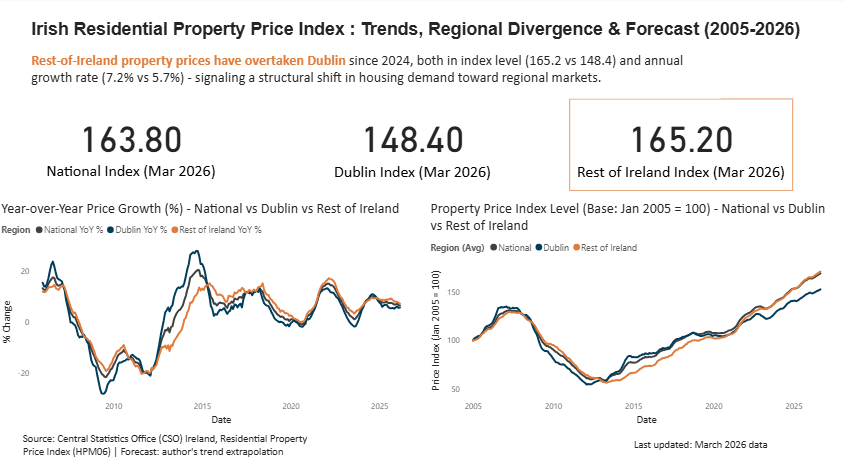

The page's visual inventory and layout, read from the dashboard file:
{"tool":"powerbi","page":{"name":"Irish Residential Property Price Index Dashboard","canvas":[1280,720],"ordinal":0},"visuals":[{"type":"lineChart","title":"Property Price Index Level (Base: Jan 2005 = 100) - National vs Dublin vs Rest of Ireland","fields":{"Y":["Avg(rppi_powerbi.National)","Avg(rppi_powerbi.Dublin)","Avg(rppi_powerbi.Non-Dublin)"],"Category":["rppi_powerbi.Date"]},"box":[647.4,305.2,611.9,347.1],"z":0},{"type":"card","title":"National Index (Mar 2026)","fields":{"Values":["rppi_powerbi.Latest National"]},"box":[32.3,153.4,337,138],"z":1000},{"type":"card","title":"Rest of Ireland Index (Mar 2026)","fields":{"Values":["rppi_powerbi.Latest NonDublin"]},"box":[862.2,153.4,337.4,138.9],"z":2000},{"type":"card","title":"Dublin Index (Mar 2026)","fields":{"Values":["rppi_powerbi.Latest Dublin"]},"box":[456.9,153.4,337.4,138.9],"z":3000},{"type":"lineChart","title":"Year-over-Year Price Growth (%) - National vs Dublin vs Rest of Ireland","fields":{"Y":["Avg(rppi_national_dublin.National - all residential properties YoY %)","Avg(rppi_national_dublin.Dublin - all residential properties YoY %)","Avg(rppi_national_dublin.National excluding Dublin - all residential properties YoY %)"],"Category":["rppi_national_dublin.Date"]},"box":[0,305.2,624.8,347.1],"z":4000},{"type":"textbox","box":[45.2,29.1,1188.3,48.4],"z":5000},{"type":"textbox","box":[45.2,77.5,1044.6,75.9],"z":6000},{"type":"textbox","box":[32.3,652.3,450.5,53.3],"z":7000},{"type":"textbox","box":[954.2,660.4,300.3,40.4],"z":8000}]}

Visuals, with their boxes in screenshot pixels (x1, y1, x2, y2), scaled from the page's 1280x720 canvas onto the 845x473 screenshot:
"Property Price Index Level (Base: Jan 2005 = 100) - National vs Dublin vs Rest of Ireland" lineChart: bbox=[427, 200, 831, 429]
"National Index (Mar 2026)" card: bbox=[21, 101, 244, 191]
"Rest of Ireland Index (Mar 2026)" card: bbox=[569, 101, 792, 192]
"Dublin Index (Mar 2026)" card: bbox=[302, 101, 524, 192]
"Year-over-Year Price Growth (%) - National vs Dublin vs Rest of Ireland" lineChart: bbox=[0, 200, 412, 429]
textbox: bbox=[30, 19, 814, 51]
textbox: bbox=[30, 51, 719, 101]
textbox: bbox=[21, 429, 319, 464]
textbox: bbox=[630, 434, 828, 460]
